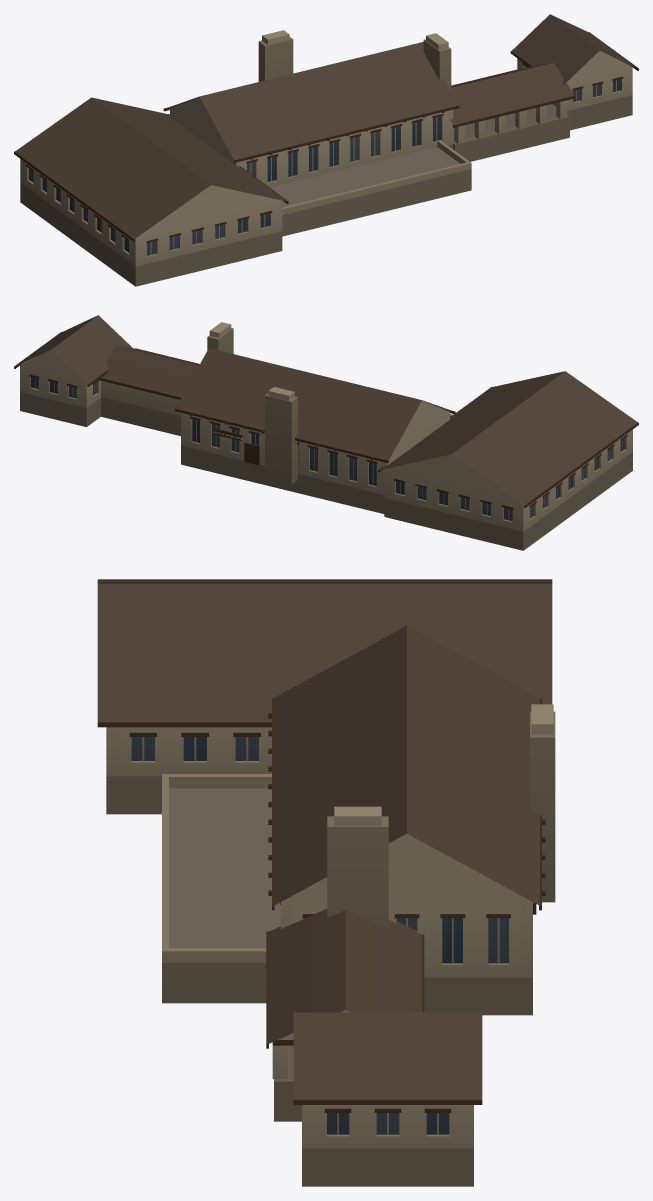
The model's file is lodge.glb.
3 views of the same model, one above another, from view 1: azimuth 30°, elevation 25°; view 2: azimuth 150°, elevation 25°; view 3: azimuth 270°, elevation 25° (orthographic). The views are drawn at different scales.
Visible parts, largest first — view 1: lodge_lod0; view 2: lodge_lod0; view 3: lodge_lod0.
Part boxes in pixels (x1,y1,x2,y2): lodge_lod0: (14, 14, 638, 286); lodge_lod0: (14, 315, 638, 550); lodge_lod0: (97, 579, 555, 1186).
Size of what is drawn, in the model's own units: 87.3 by 16.4 by 32.7.
